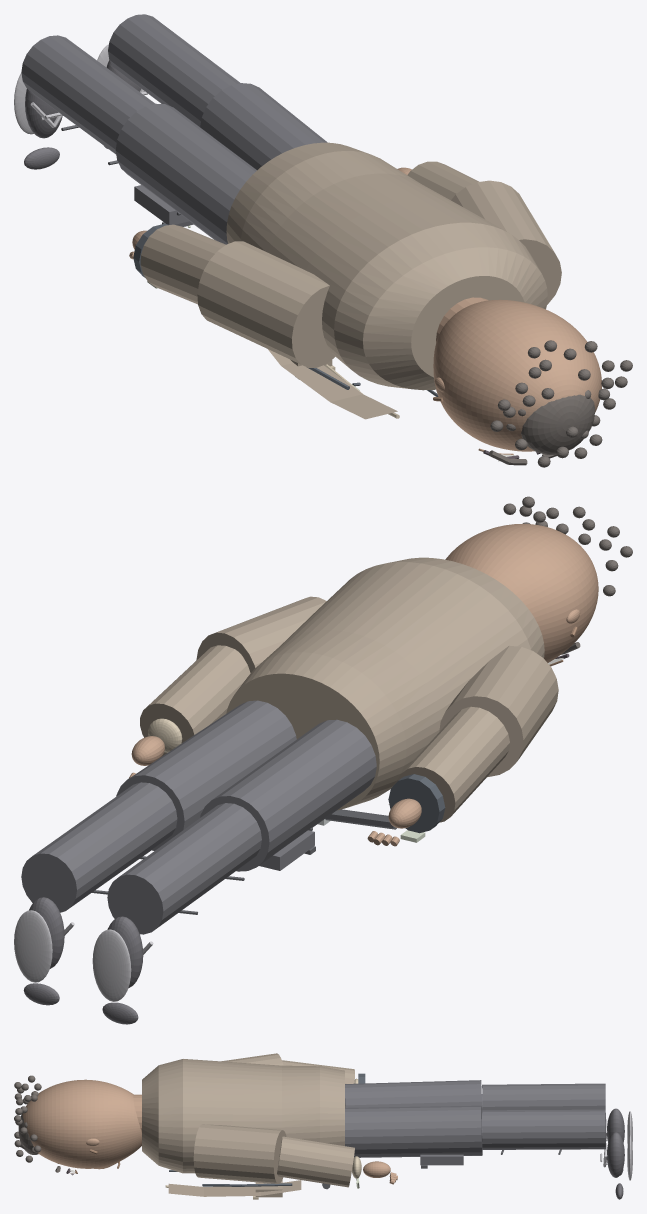
The model's file is mandla_khumalo.glb.
The picture shows the model from 3 angles, top to bottom: view 1: azimuth 30°, elevation 25°; view 2: azimuth 150°, elevation 25°; view 3: azimuth 270°, elevation 25°; orthographic projection. The views are drawn at different scales.
Visible parts, largest first — view 1: mandla_khumalo_top, mandla_khumalo_pants, mandla_khumalo_skin, mandla_khumalo_hair, mandla_khumalo_shoe, mandla_khumalo_sole, mandla_khumalo_topshadow; view 2: mandla_khumalo_top, mandla_khumalo_pants, mandla_khumalo_skin, mandla_khumalo_sole, mandla_khumalo_shoe, mandla_khumalo_topshadow, mandla_khumalo_hair, mandla_khumalo_pantshadow, mandla_khumalo_tophi; view 3: mandla_khumalo_top, mandla_khumalo_pants, mandla_khumalo_skin, mandla_khumalo_hair, mandla_khumalo_shoe, mandla_khumalo_sole, mandla_khumalo_topshadow, mandla_khumalo_tophi.
Boxes of the visible parts, x1,y1,x2,y2 form: mandla_khumalo_top: [140, 142, 561, 419]; mandla_khumalo_pants: [21, 14, 327, 244]; mandla_khumalo_skin: [129, 167, 601, 451]; mandla_khumalo_hair: [489, 340, 632, 467]; mandla_khumalo_shoe: [24, 60, 141, 169]; mandla_khumalo_sole: [14, 44, 147, 134]; mandla_khumalo_topshadow: [133, 223, 438, 396]; mandla_khumalo_top: [140, 557, 558, 822]; mandla_khumalo_pants: [21, 700, 376, 934]; mandla_khumalo_skin: [129, 523, 598, 846]; mandla_khumalo_sole: [14, 910, 153, 1001]; mandla_khumalo_shoe: [23, 897, 143, 1024]; mandla_khumalo_topshadow: [388, 774, 445, 833]; mandla_khumalo_hair: [503, 496, 632, 654]; mandla_khumalo_pantshadow: [92, 809, 396, 914]; mandla_khumalo_tophi: [148, 718, 182, 752]; mandla_khumalo_top: [142, 1053, 354, 1197]; mandla_khumalo_pants: [345, 1080, 605, 1165]; mandla_khumalo_skin: [22, 1079, 397, 1184]; mandla_khumalo_hair: [14, 1075, 60, 1172]; mandla_khumalo_shoe: [607, 1108, 624, 1199]; mandla_khumalo_sole: [600, 1111, 632, 1180]; mandla_khumalo_topshadow: [169, 1073, 365, 1186]; mandla_khumalo_tophi: [165, 1078, 361, 1199].
Size of the model in its own units: 0.7183 by 0.399 by 1.9.
